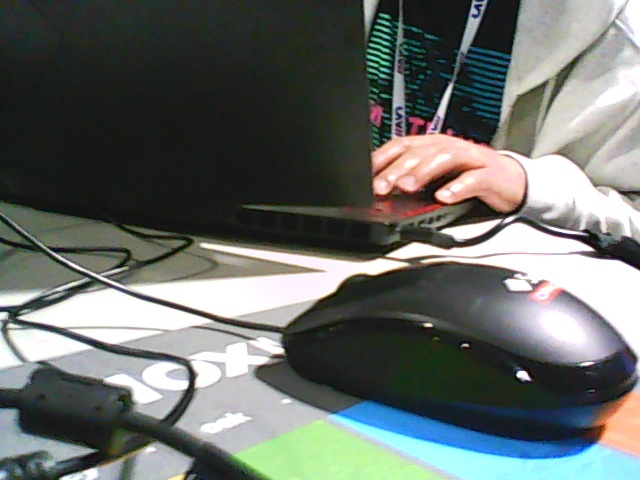mouse: (282, 263, 638, 440)
